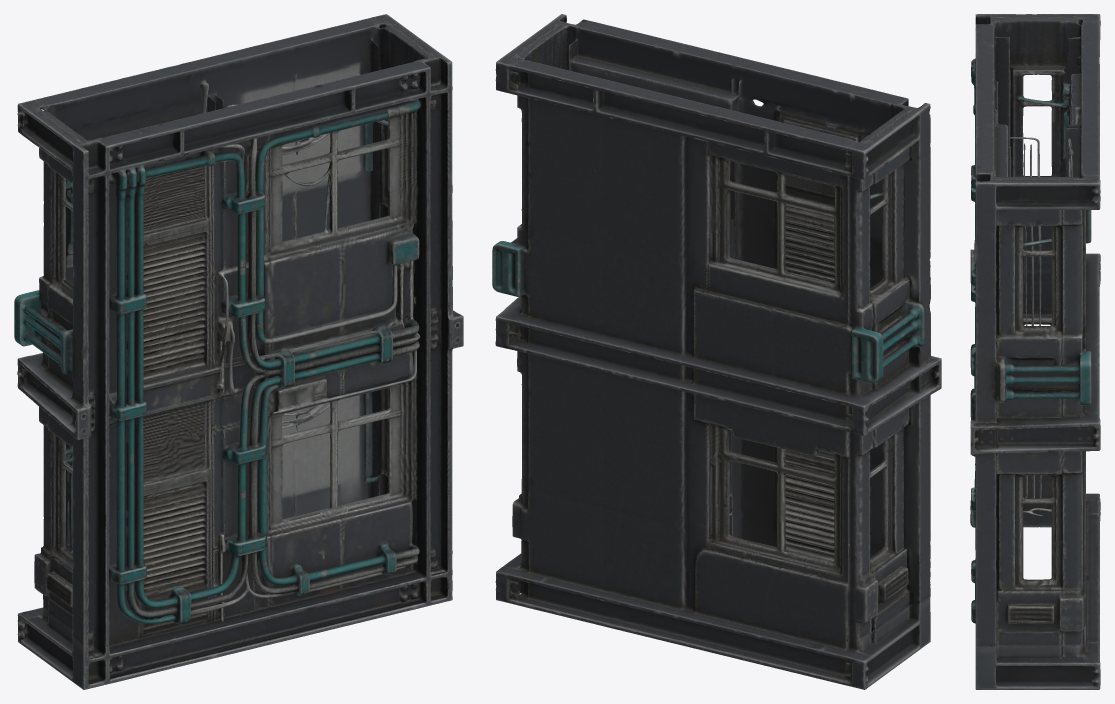
The model's file is modular_mech_facade_panel.glb.
3 renders of one model, left to right at view 1: azimuth 30°, elevation 25°; view 2: azimuth 150°, elevation 25°; view 3: azimuth 270°, elevation 25°, orthographic. The views are drawn at different scales.
Size of the model in its own units: 1.43 by 1.9 by 0.4433.
1 material, 1 textured.
